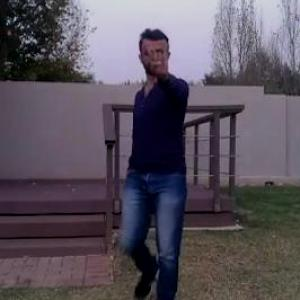takeoff-hand: (138, 34, 172, 78)
